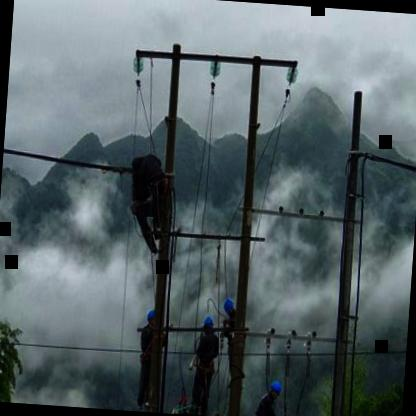helmet: (267, 376, 283, 400), (144, 308, 158, 328), (203, 313, 216, 334), (224, 298, 236, 318)
